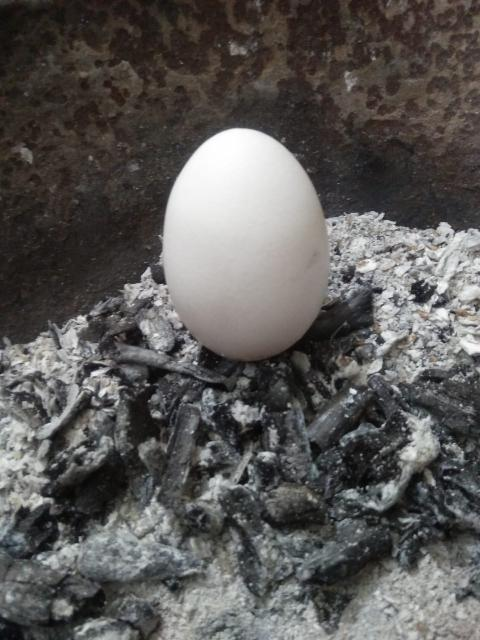Sano: (160, 126, 331, 362)
